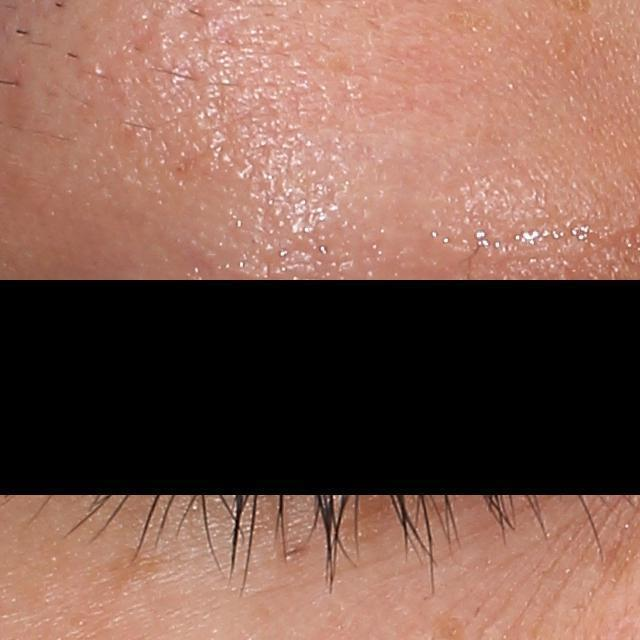melasma: (87, 544, 169, 598), (338, 476, 393, 542)
